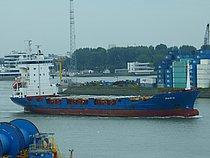Ship: (12, 57, 210, 122)
